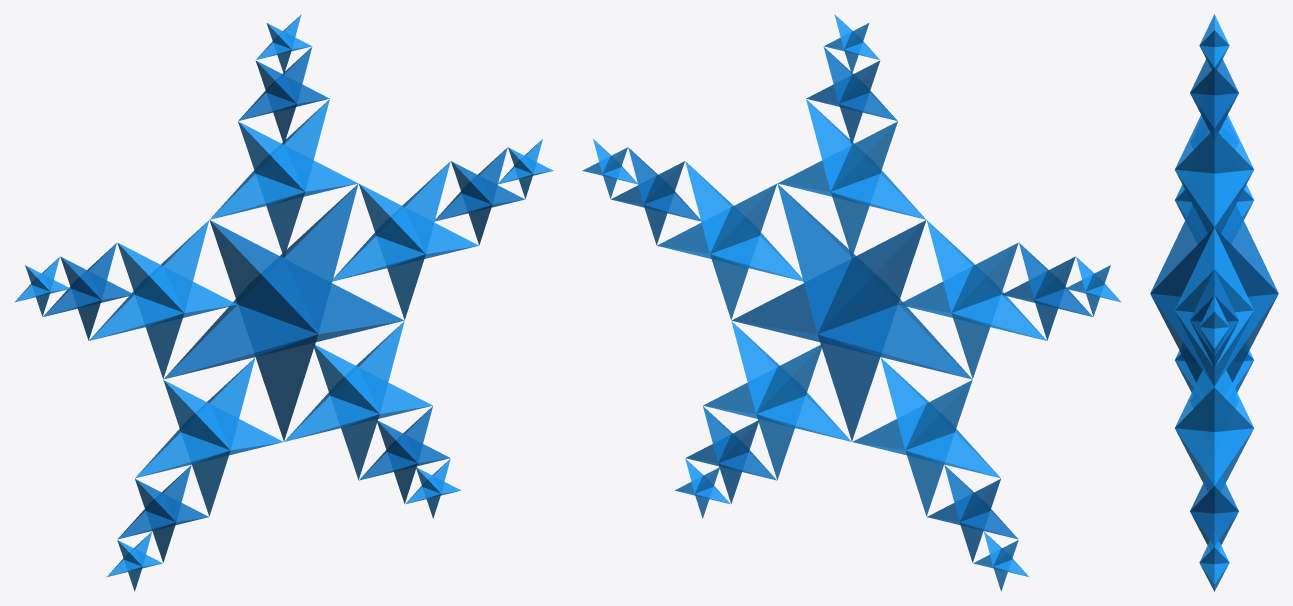
The model's file is fractalpentagrammicdipyramidA3.glb.
3 renders of one model, left to right at view 1: azimuth 30°, elevation 25°; view 2: azimuth 150°, elevation 25°; view 3: azimuth 270°, elevation 25°, orthographic. The views are drawn at different scales.
Bounding box in the file's own units: 10.85 × 10.32 × 2.4.
